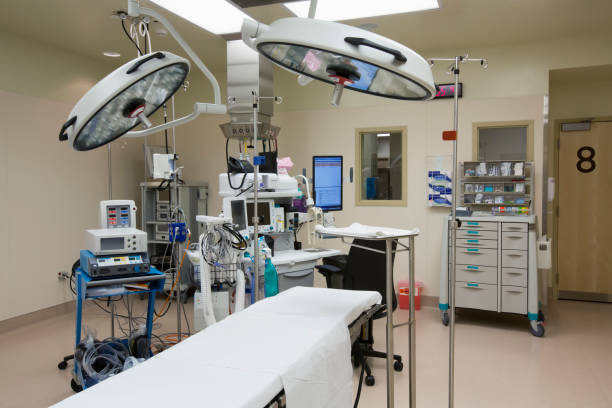bedside_monitor: (226, 198, 283, 239), (312, 154, 345, 213)
chair: (315, 222, 403, 387)
electrosurgical_unit: (73, 248, 159, 281)
iv_pole: (427, 54, 487, 408), (230, 91, 282, 301)
medical_drawer: (440, 207, 547, 337)
operating_bed: (1, 284, 380, 408)
surgical_light: (239, 14, 437, 107), (58, 49, 191, 151)
